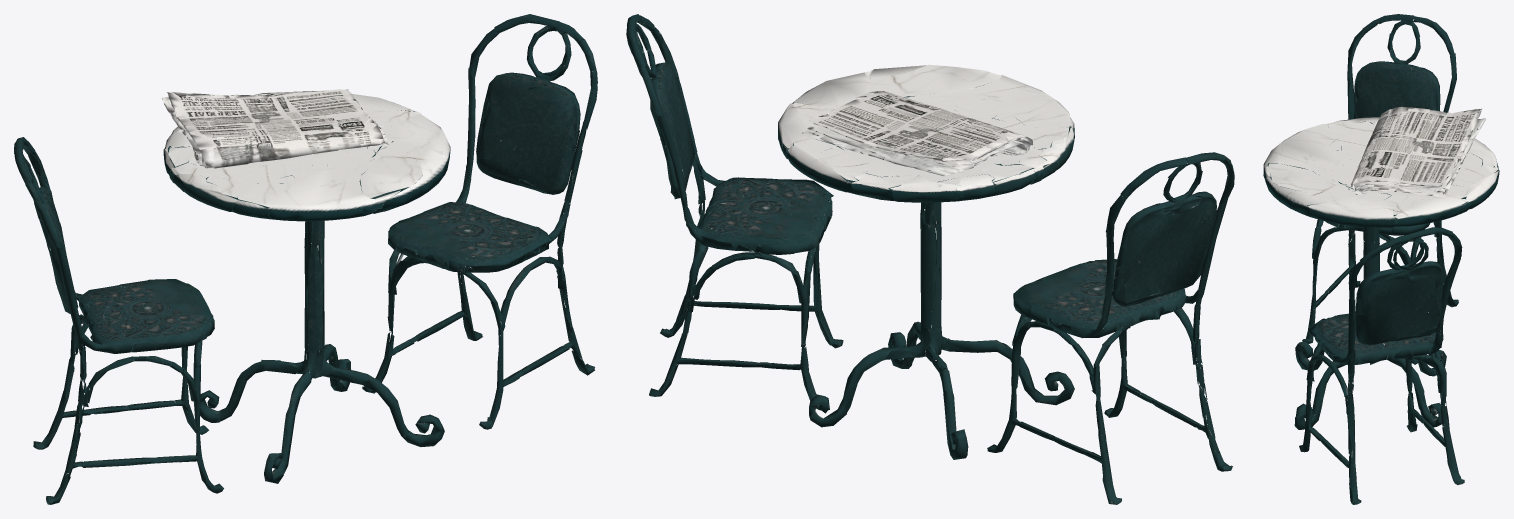
The model's file is tavolino_caffe_lod2.glb.
The picture shows the model from 3 angles, left to right: view 1: azimuth 30°, elevation 25°; view 2: azimuth 150°, elevation 25°; view 3: azimuth 270°, elevation 25°; orthographic projection. The views are drawn at different scales.
Parts seen in each view (by area): view 1: Mesh_0; view 2: Mesh_0; view 3: Mesh_0.
Boxes of the visible parts, left/top/right/bottom form: Mesh_0: left=14, top=14, right=597, bottom=504; Mesh_0: left=626, top=14, right=1234, bottom=504; Mesh_0: left=1263, top=14, right=1499, bottom=504.
Bounding box in the file's own units: 1.6 × 0.9019 × 0.699.
1 material, 1 textured.
